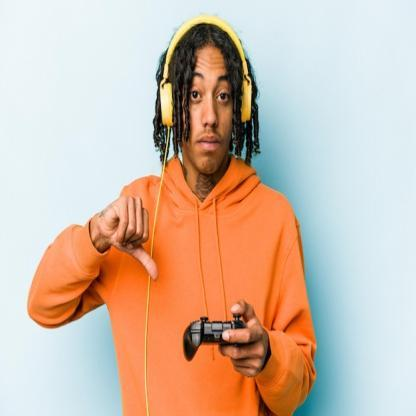thumb_down: (98, 188, 160, 282)
